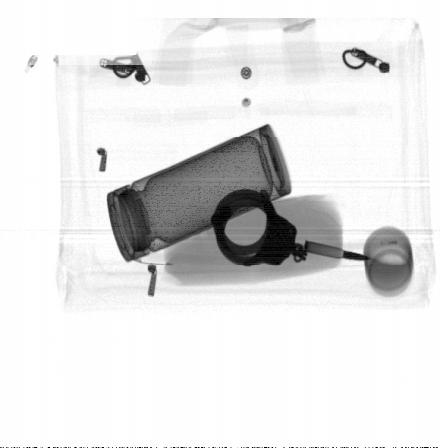Bullet: (303, 239, 371, 260)
HandCuffs: (212, 190, 306, 266)
